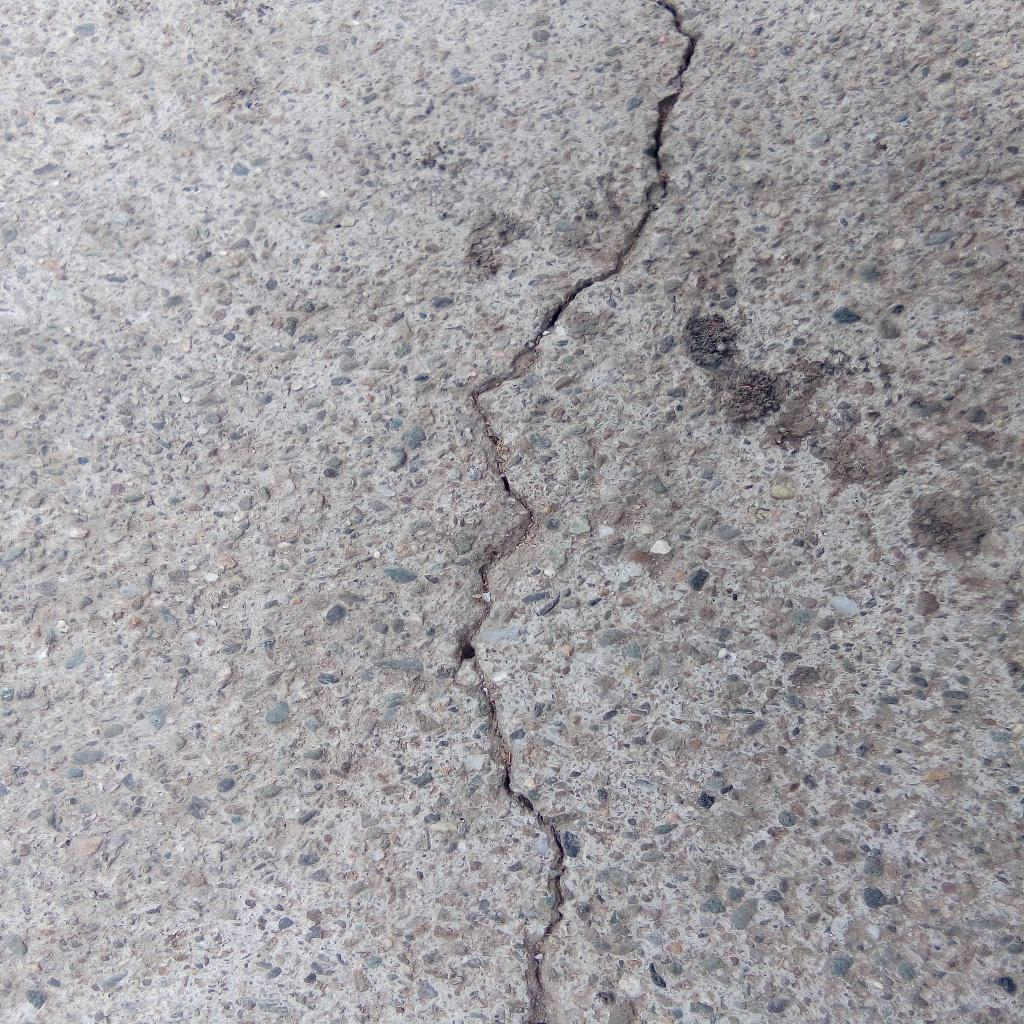Crack: (455, 1, 697, 1024)
